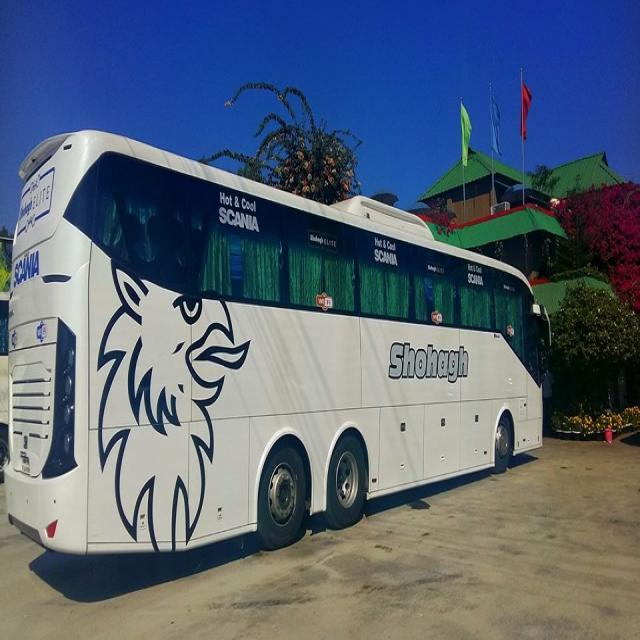Bus: (1, 114, 555, 577)
